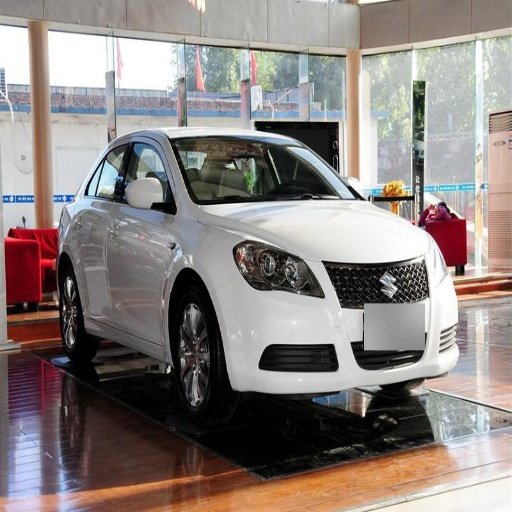front_bumper: (214, 250, 457, 395)
front_right_door: (111, 137, 172, 339)
front_right_light: (234, 240, 323, 295)
